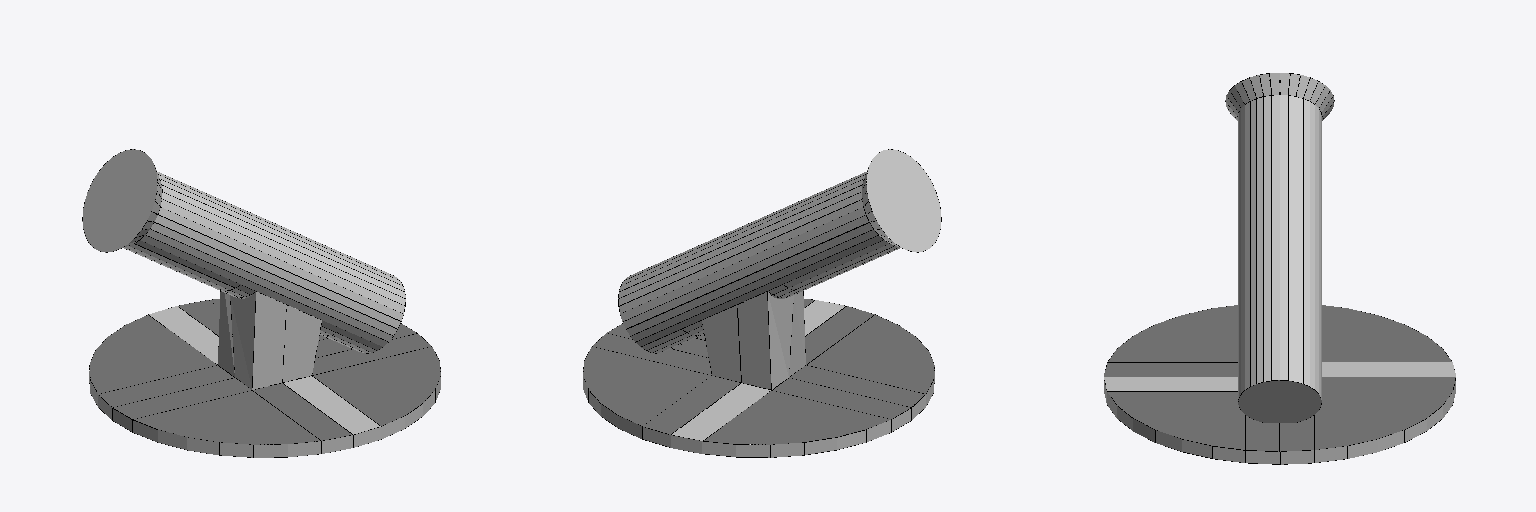
3 renders of one model, left to right at view 1: azimuth 30°, elevation 25°; view 2: azimuth 150°, elevation 25°; view 3: azimuth 270°, elevation 25°, orthographic.
Parts seen in each view (by area): view 1: cannon_Cube.004; view 2: cannon_Cube.004; view 3: cannon_Cube.004.
Boxes of the visible parts, <box> form: cannon_Cube.004: <box>82,149,440,457</box>; cannon_Cube.004: <box>583,149,941,457</box>; cannon_Cube.004: <box>1104,73,1455,464</box>.
Size of the model in its own units: 8.9 by 6.82 by 8.4.
Materials: 1 (1 with a texture image).